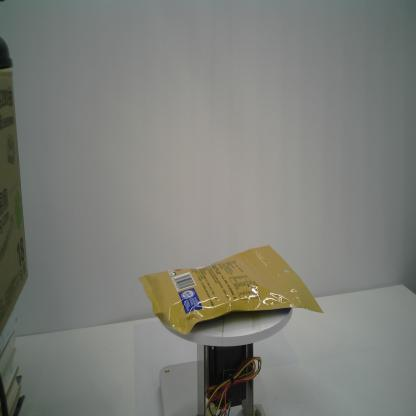Dried Fruit: (137, 244, 324, 336)
